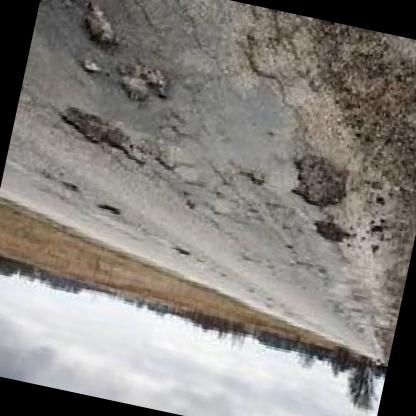pothole: (51, 106, 151, 171), (286, 152, 356, 214), (112, 59, 172, 109), (74, 0, 126, 53), (309, 218, 355, 250), (78, 58, 104, 78)
